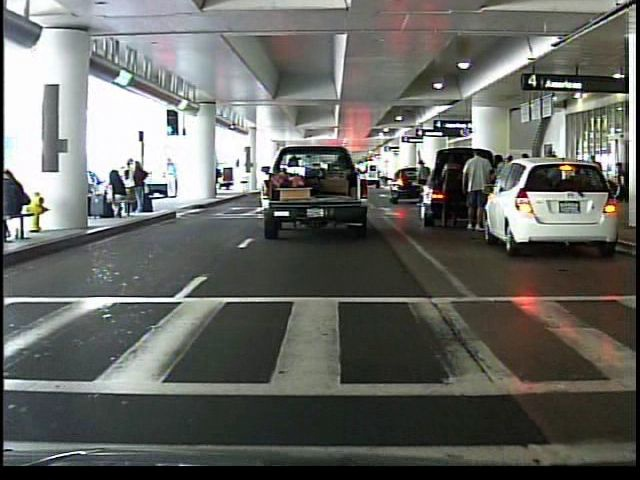person: (461, 145, 494, 236), (432, 145, 465, 230), (412, 156, 432, 208), (164, 156, 181, 199), (613, 158, 626, 187)
